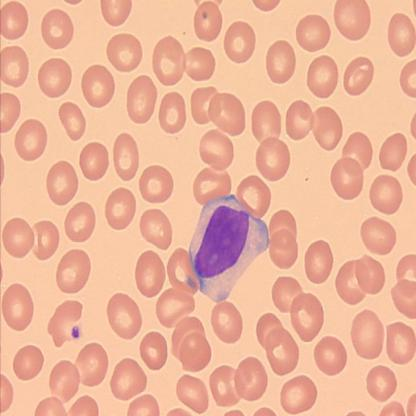Atypical lymphocyte: (183, 190, 273, 305)
